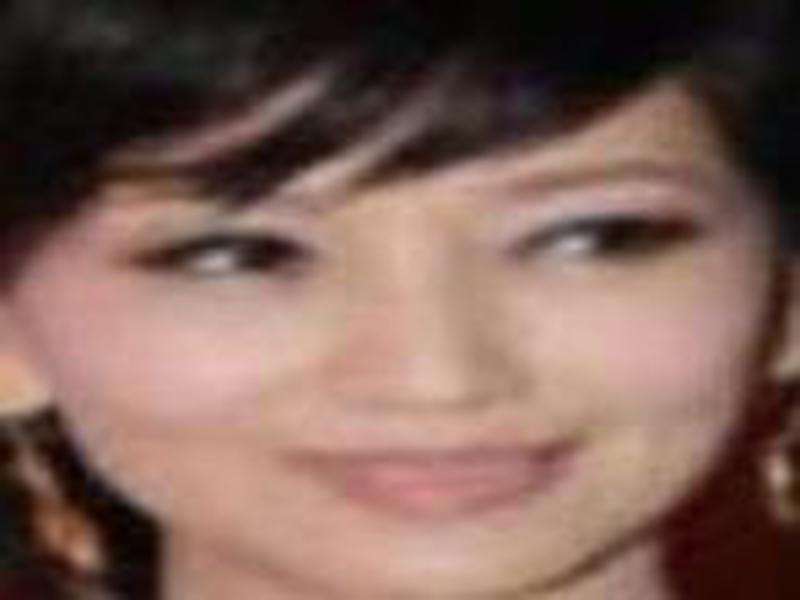without_mask: (25, 72, 765, 595)
